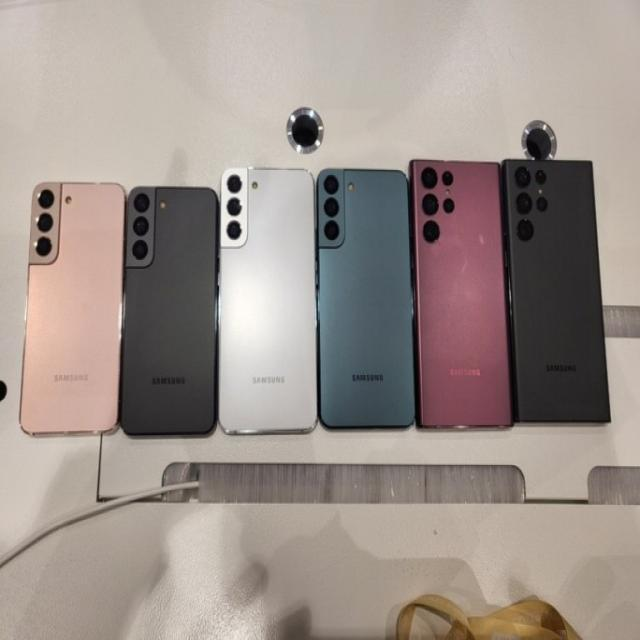phone: (220, 168, 318, 432), (319, 166, 417, 428), (20, 182, 120, 436), (120, 185, 216, 438)
